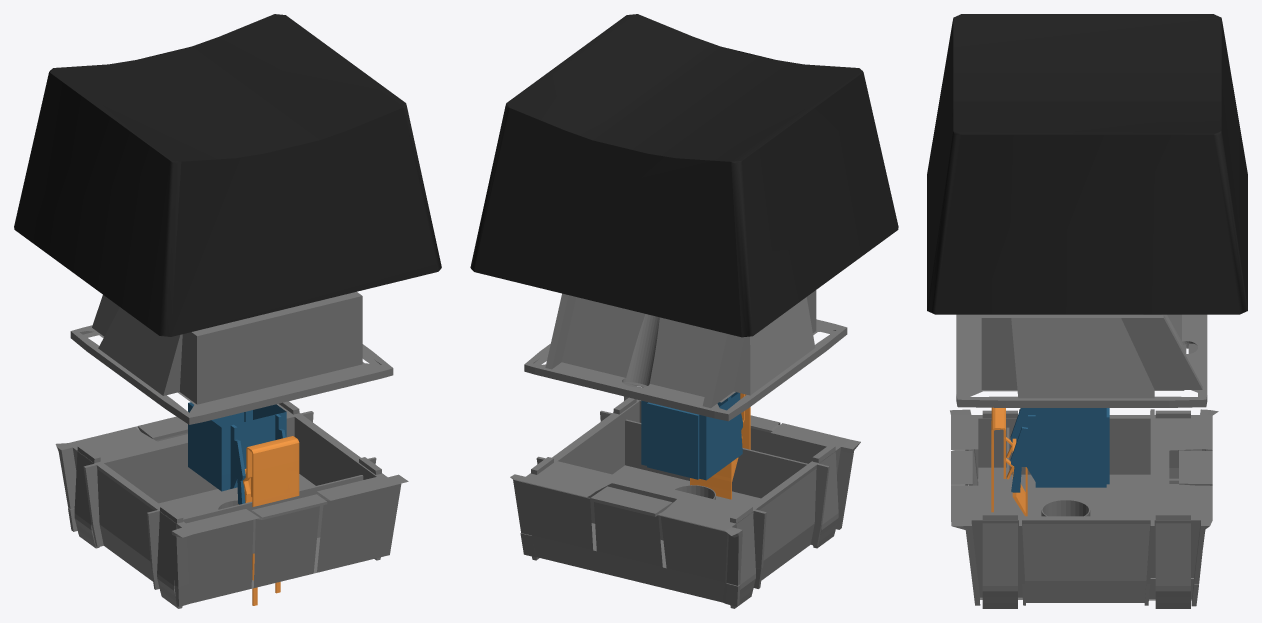
File: mechanical_keyboard_switch.glb
3 renders of one model, left to right at view 1: azimuth 30°, elevation 25°; view 2: azimuth 150°, elevation 25°; view 3: azimuth 270°, elevation 25°, orthographic. The views are drawn at different scales.
Visible parts, largest first — view 1: Cube.236_0, Cube.270_5, Cube.267_2, Cube.266_1, Cube.269_4, Plane.160_8; view 2: Cube.236_0, Cube.270_5, Cube.267_2, Cube.266_1, Cube.269_4, Plane.159_7; view 3: Cube.236_0, Cube.270_5, Cube.267_2, Cube.266_1, Cube.269_4, Cylinder.053_6, Plane.160_8.
Part boxes in pixels (box(x1,y1,x2,y2)): Cube.236_0: box(14, 14, 441, 336); Cube.270_5: box(55, 404, 408, 606); Cube.267_2: box(70, 291, 393, 424); Cube.266_1: box(188, 402, 286, 504); Cube.269_4: box(74, 401, 381, 608); Plane.160_8: box(246, 436, 299, 605); Cube.236_0: box(470, 14, 898, 337); Cube.270_5: box(510, 396, 860, 606); Cube.267_2: box(524, 290, 847, 421); Cube.266_1: box(641, 392, 742, 480); Cube.269_4: box(531, 397, 838, 608); Plane.159_7: box(690, 457, 738, 499); Cube.236_0: box(927, 14, 1247, 314); Cube.270_5: box(950, 409, 1218, 606); Cube.267_2: box(956, 314, 1207, 407); Cube.266_1: box(1010, 408, 1109, 492); Cube.269_4: box(982, 410, 1190, 608); Cylinder.053_6: box(1041, 499, 1090, 516); Plane.160_8: box(991, 407, 1004, 512).
Bounding box in the file's own units: 0.9688 × 1.6 × 0.9108.
